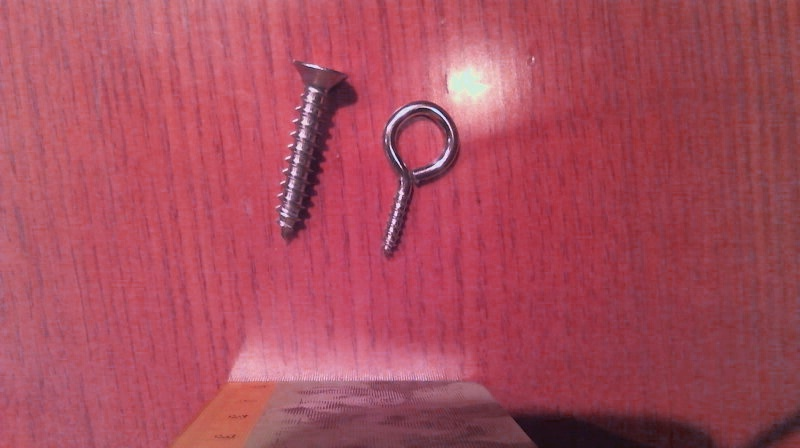O001: (371, 98, 465, 262)
S001: (271, 56, 352, 246)
